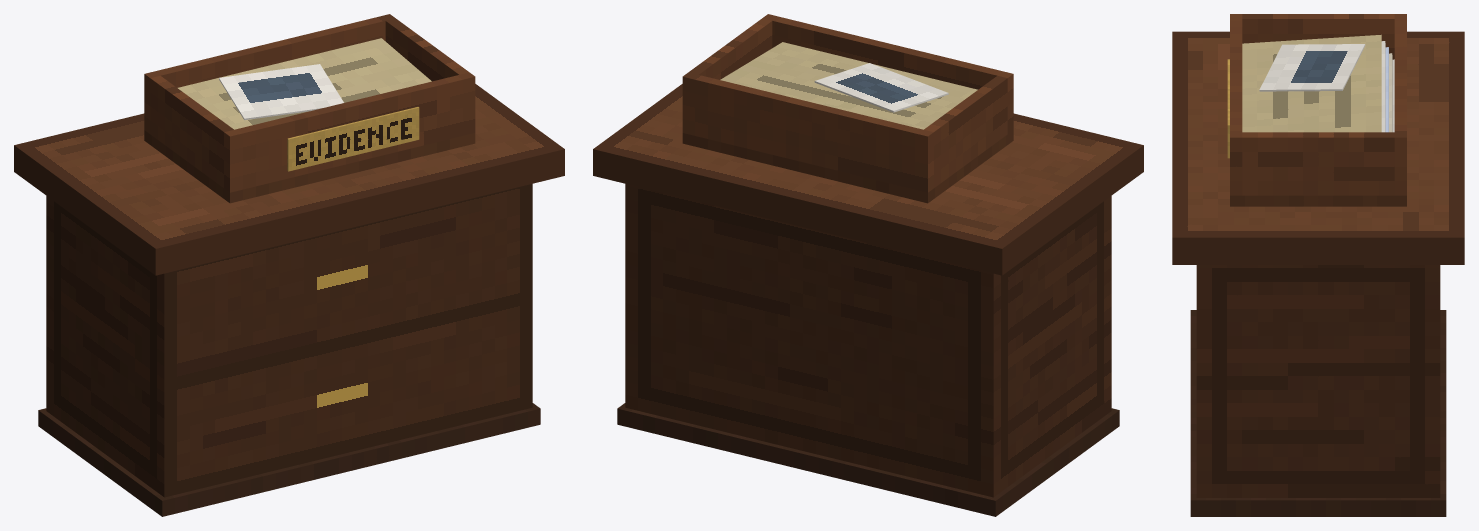
The model's file is side_table.glb.
3 views of the same model, side by side, from view 1: azimuth 30°, elevation 25°; view 2: azimuth 150°, elevation 25°; view 3: azimuth 270°, elevation 25° (orthographic). The views are drawn at different scales.
Parts seen in each view (by area): view 1: side_table; view 2: side_table; view 3: side_table.
Part boxes in pixels (x1,y1,x2,y2): side_table: [14, 14, 564, 516]; side_table: [593, 14, 1143, 516]; side_table: [1172, 14, 1464, 516].
Size of the model in its own units: 1 by 0.8062 by 0.6.
Materials: 1 (1 with a texture image).
